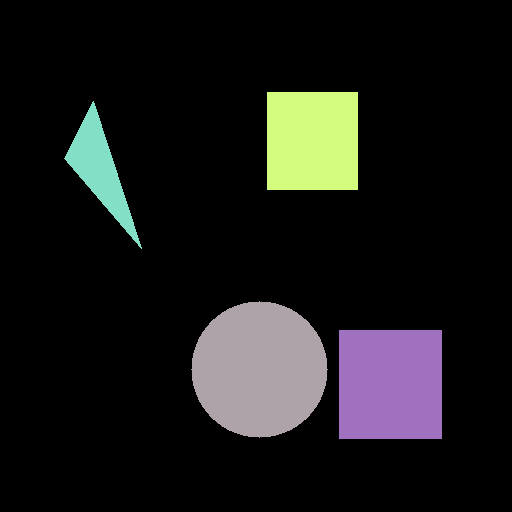circle: (191, 301, 327, 437)
square: (339, 330, 441, 438), (267, 92, 357, 189)
triangle: (64, 101, 141, 248)
